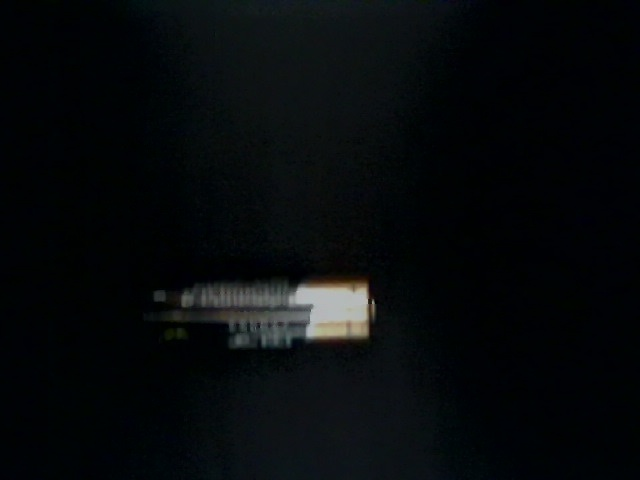YHLJ: (382, 1, 491, 173)
